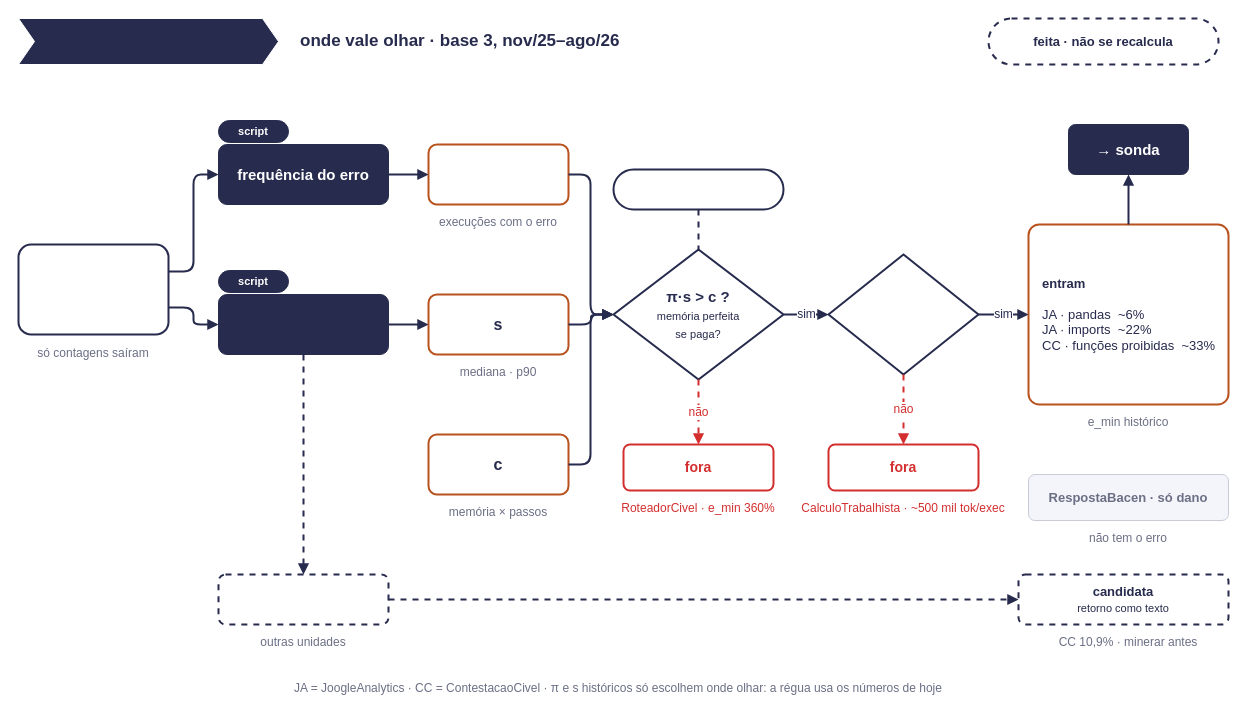
This 1246x721 diagram has some shape labels left out. Here are the shapes that lost their labels. From the top down, the box of each, then its label:
(18, 18, 278, 64): Volumetria
(427, 143, 569, 205): π histórico
(612, 168, 784, 210): e_min = c ÷ (π·s)
(17, 243, 169, 335): trace histórico
(218, 294, 388, 354): custo do passo
(827, 253, 979, 375): cabe no orçamento?
(217, 573, 389, 625): radar
